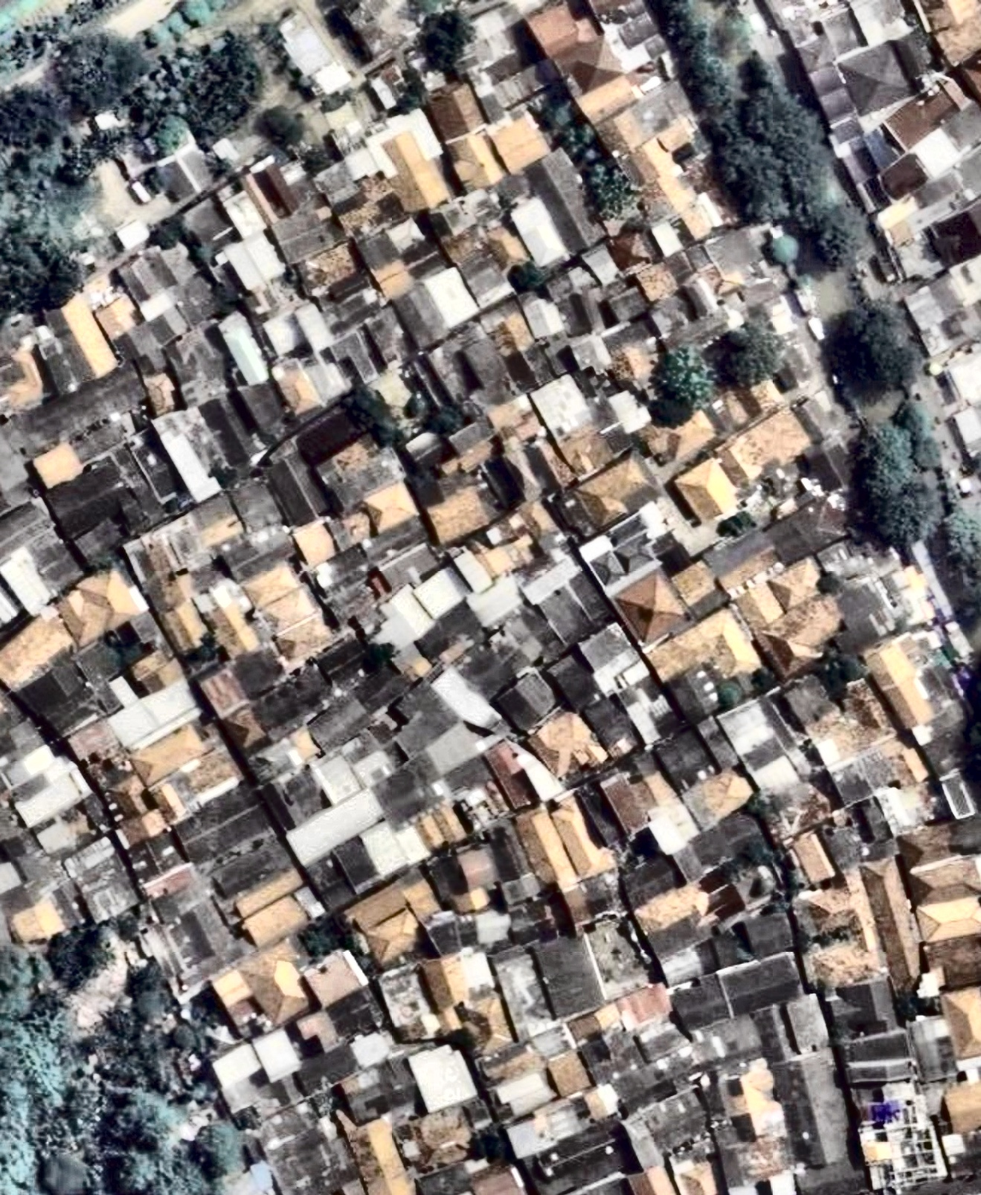building: (764, 0, 980, 184), (68, 674, 246, 849), (0, 361, 162, 490), (77, 229, 224, 370), (118, 494, 266, 633), (836, 73, 981, 214), (858, 622, 981, 787), (797, 0, 949, 128), (573, 509, 701, 652), (121, 856, 248, 999), (867, 140, 981, 296), (806, 0, 945, 121), (730, 553, 858, 684), (261, 725, 402, 837), (0, 359, 150, 464), (572, 48, 697, 166), (521, 357, 638, 480), (574, 620, 682, 752), (612, 844, 726, 964), (641, 603, 764, 714), (215, 658, 343, 764), (784, 867, 889, 996), (245, 1090, 371, 1195), (843, 1074, 952, 1195), (699, 1057, 797, 1190), (664, 948, 806, 1035), (207, 937, 322, 1044), (299, 654, 416, 758), (767, 1047, 862, 1175), (712, 686, 816, 802), (422, 180, 527, 292), (517, 0, 626, 106), (414, 318, 520, 427), (16, 292, 121, 401), (0, 493, 89, 620), (239, 556, 338, 670), (346, 202, 451, 309), (92, 425, 193, 536), (517, 145, 614, 259), (549, 448, 663, 545), (857, 853, 932, 995), (359, 110, 454, 222), (517, 549, 617, 653), (751, 584, 855, 682), (146, 397, 239, 506), (501, 1079, 617, 1163), (9, 649, 108, 747), (168, 783, 275, 873), (206, 1023, 311, 1114), (710, 402, 815, 492), (262, 7, 355, 107), (897, 254, 981, 364), (282, 782, 387, 869), (49, 558, 148, 650), (616, 1084, 718, 1173), (0, 736, 93, 832), (310, 426, 408, 517), (522, 1118, 634, 1195), (899, 252, 981, 357), (741, 760, 834, 852), (685, 214, 780, 304), (40, 455, 137, 543), (858, 634, 940, 737), (876, 68, 970, 157), (666, 804, 766, 886), (521, 702, 611, 793), (411, 461, 503, 550), (895, 812, 981, 907), (105, 675, 204, 756), (651, 1014, 764, 1083), (616, 134, 699, 227), (0, 603, 81, 697), (60, 834, 141, 927), (529, 928, 609, 1022), (821, 732, 917, 810), (608, 563, 693, 650), (376, 682, 462, 767), (760, 490, 852, 569), (834, 34, 919, 119), (147, 409, 222, 505), (507, 802, 581, 899), (204, 828, 296, 906), (334, 1052, 424, 1131), (305, 544, 386, 631), (325, 0, 427, 69), (487, 942, 557, 1041), (393, 1101, 481, 1179), (543, 790, 616, 883), (160, 323, 238, 410), (257, 442, 332, 532), (586, 0, 671, 78), (699, 520, 785, 597), (450, 624, 531, 705), (666, 452, 745, 533), (574, 619, 650, 701), (597, 1040, 674, 1120), (264, 196, 345, 272), (409, 948, 477, 1038), (215, 517, 299, 589), (192, 578, 262, 664), (196, 389, 265, 475), (343, 1115, 417, 1195), (373, 961, 441, 1048), (465, 0, 550, 68), (427, 664, 503, 740), (484, 599, 560, 675), (405, 1037, 478, 1115), (678, 760, 757, 832), (326, 174, 404, 245), (147, 136, 221, 210), (553, 865, 631, 935), (836, 1026, 918, 1092), (490, 665, 564, 738), (289, 400, 366, 470), (423, 840, 504, 906), (410, 598, 486, 668), (912, 0, 980, 78), (311, 270, 386, 340), (11, 766, 91, 831), (365, 584, 437, 656), (594, 763, 662, 839), (505, 192, 569, 272), (368, 758, 440, 829), (297, 943, 370, 1013), (526, 370, 596, 443), (2, 883, 84, 945), (638, 408, 720, 470), (823, 975, 900, 1040), (212, 308, 273, 390), (482, 107, 553, 177), (482, 388, 552, 459), (649, 725, 718, 796), (439, 126, 507, 198), (245, 726, 321, 790), (419, 77, 489, 146), (795, 430, 864, 500), (119, 523, 190, 591), (809, 530, 881, 597), (387, 279, 452, 353), (689, 1012, 765, 1075), (236, 890, 312, 953), (921, 196, 981, 275), (903, 1133, 980, 1194), (771, 667, 839, 736), (803, 935, 883, 993), (834, 675, 898, 746), (579, 690, 643, 761), (551, 416, 618, 483), (662, 660, 728, 728), (542, 647, 606, 717), (479, 737, 537, 814), (339, 877, 412, 938), (290, 1039, 365, 1098), (454, 989, 517, 1059), (228, 864, 305, 921), (0, 544, 60, 617), (552, 417, 618, 483), (421, 717, 489, 781), (359, 906, 428, 969), (225, 472, 287, 542), (836, 580, 895, 653), (311, 628, 377, 693), (534, 582, 598, 649), (452, 243, 515, 311), (572, 69, 643, 129), (371, 538, 442, 598), (173, 193, 238, 258), (322, 984, 388, 1048), (657, 307, 735, 360), (246, 155, 307, 222), (359, 514, 431, 570), (68, 514, 134, 575), (906, 1010, 959, 1085), (409, 797, 473, 859), (454, 332, 514, 398), (31, 802, 98, 861), (293, 240, 361, 298), (227, 641, 290, 703), (421, 263, 480, 329), (517, 550, 584, 608), (356, 477, 420, 537), (301, 849, 360, 914), (4, 894, 69, 953), (919, 932, 981, 993), (465, 572, 529, 631), (733, 906, 798, 964), (490, 1064, 556, 1121), (233, 376, 290, 442), (576, 1027, 637, 1088), (328, 832, 387, 895), (123, 642, 187, 700), (358, 305, 416, 369), (778, 991, 833, 1058), (123, 829, 186, 887), (475, 1037, 545, 1089), (410, 563, 471, 622), (326, 327, 383, 390), (417, 951, 473, 1015), (885, 562, 938, 629), (269, 355, 323, 420), (887, 230, 946, 289), (592, 104, 652, 162), (155, 597, 212, 658), (913, 894, 981, 945), (612, 979, 676, 1033), (70, 634, 129, 692), (307, 747, 364, 807), (784, 827, 838, 890), (749, 1002, 801, 1067), (731, 577, 788, 636), (873, 149, 933, 205), (482, 817, 532, 884), (0, 829, 54, 891), (240, 272, 302, 326), (27, 438, 86, 494), (789, 386, 844, 446), (396, 293, 451, 352), (513, 741, 564, 804), (817, 817, 871, 876), (632, 1013, 691, 1067), (495, 440, 544, 505), (449, 781, 504, 838), (357, 819, 410, 878), (0, 345, 43, 417), (437, 435, 500, 484), (939, 986, 980, 1060), (502, 341, 557, 396), (641, 289, 697, 343), (215, 239, 267, 297), (423, 192, 481, 244), (517, 286, 569, 344), (0, 697, 45, 764), (692, 714, 741, 775), (667, 556, 722, 610), (490, 62, 549, 112), (626, 255, 680, 309), (207, 1040, 264, 1091), (916, 727, 970, 780), (362, 59, 414, 114), (541, 1048, 593, 1101), (158, 605, 210, 658), (289, 517, 340, 571), (219, 186, 268, 242), (486, 308, 538, 360), (481, 532, 539, 578), (291, 1007, 342, 1059), (604, 224, 655, 276), (419, 907, 469, 960), (566, 1001, 624, 1046), (596, 282, 650, 330), (770, 345, 818, 399), (439, 753, 494, 800), (564, 328, 614, 379), (447, 544, 495, 597), (734, 273, 787, 321), (303, 352, 351, 404), (734, 373, 786, 421), (606, 384, 653, 437), (934, 768, 979, 823), (291, 299, 336, 354), (311, 158, 361, 207), (0, 428, 29, 511), (241, 230, 286, 283), (443, 414, 496, 459), (669, 198, 717, 247), (453, 843, 500, 893), (528, 1020, 578, 1066), (642, 809, 688, 859), (577, 241, 623, 291), (327, 505, 377, 551), (795, 1162, 866, 1194), (705, 925, 754, 971), (346, 1025, 394, 1071), (634, 765, 679, 814), (557, 882, 598, 935), (399, 876, 444, 924), (851, 795, 893, 846), (472, 536, 517, 583), (654, 113, 701, 158), (871, 191, 920, 234), (260, 311, 304, 358), (650, 530, 694, 577), (516, 495, 559, 543), (147, 572, 196, 614), (610, 344, 658, 386), (679, 273, 721, 321), (942, 1080, 980, 1133), (888, 742, 930, 789), (140, 370, 181, 418), (944, 348, 980, 402), (482, 46, 529, 87), (390, 643, 434, 686), (457, 946, 495, 994), (580, 1080, 623, 1122), (400, 426, 445, 466), (416, 1163, 472, 1194), (569, 286, 605, 334), (472, 906, 514, 947), (672, 1159, 718, 1195), (920, 1077, 960, 1118), (342, 143, 382, 183), (949, 405, 980, 456), (472, 1165, 526, 1194), (458, 1092, 496, 1133), (597, 418, 635, 459), (647, 218, 684, 259), (0, 880, 35, 923), (626, 1166, 676, 1194), (811, 733, 843, 769), (563, 261, 596, 294), (337, 836, 369, 868), (0, 799, 23, 843), (588, 0, 629, 22), (961, 113, 981, 157), (353, 862, 379, 890), (636, 72, 664, 96), (145, 705, 170, 722), (217, 511, 238, 526), (137, 692, 154, 710), (561, 465, 575, 481), (203, 691, 215, 709), (844, 730, 857, 746), (552, 448, 559, 475), (421, 1016, 430, 1033), (235, 663, 243, 682), (206, 698, 217, 709)
tree: (724, 61, 853, 219), (163, 27, 294, 159), (5, 950, 72, 1142), (648, 0, 739, 132), (826, 291, 923, 401), (50, 20, 157, 119), (848, 397, 953, 495), (0, 216, 93, 326), (697, 128, 791, 233), (549, 134, 645, 231), (0, 0, 110, 75), (847, 472, 944, 556), (645, 333, 724, 416), (43, 923, 123, 1002), (82, 1005, 159, 1087), (705, 314, 785, 392), (97, 1078, 175, 1158), (791, 199, 869, 278), (0, 84, 66, 177), (132, 0, 217, 62), (929, 505, 981, 603), (14, 1132, 96, 1194), (56, 120, 134, 185), (101, 1143, 206, 1189), (157, 1001, 217, 1060), (398, 388, 462, 441), (713, 839, 778, 891), (411, 11, 466, 64), (198, 1122, 246, 1180), (132, 91, 184, 144), (119, 963, 167, 1019), (353, 387, 398, 441), (267, 102, 313, 150), (68, 1075, 101, 1133), (398, 65, 434, 117), (471, 1121, 507, 1162), (303, 919, 340, 954), (366, 644, 401, 675), (208, 151, 236, 179), (154, 218, 183, 244), (189, 236, 214, 266), (511, 270, 547, 289)
